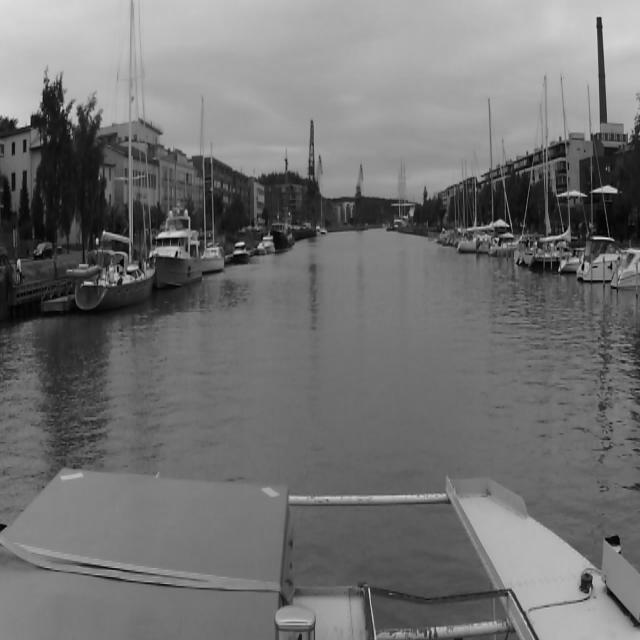ship: (75, 0, 156, 316), (529, 71, 573, 273), (457, 100, 497, 254), (153, 194, 201, 288), (200, 94, 224, 275), (576, 232, 638, 279), (274, 200, 294, 253), (233, 242, 249, 265), (257, 243, 267, 255)
